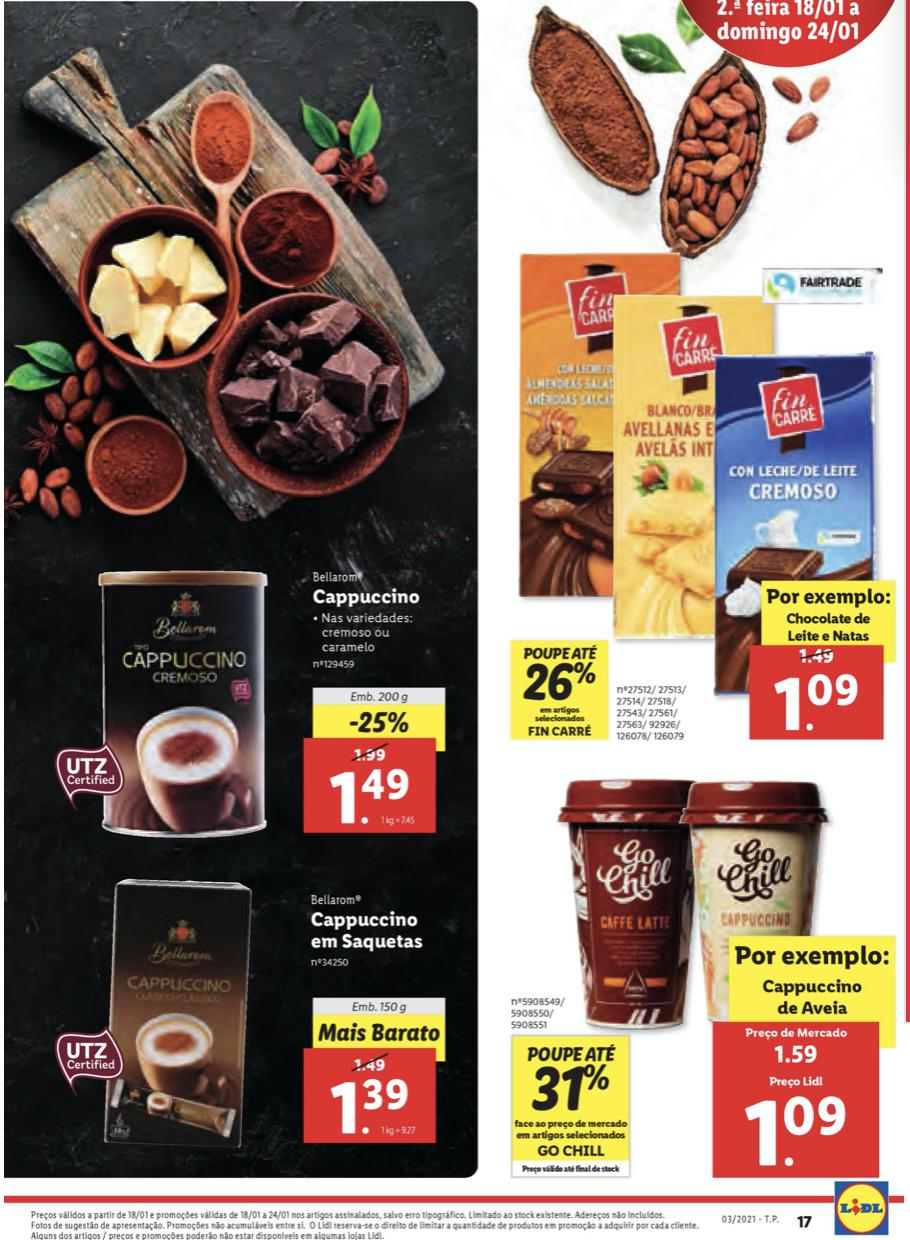name: (306, 907, 429, 958), (304, 585, 430, 613)
price: (741, 1091, 852, 1170), (775, 671, 866, 735), (332, 767, 419, 830), (327, 1081, 413, 1136)
product: (512, 233, 904, 764), (492, 767, 895, 1191), (36, 851, 466, 1159), (44, 553, 444, 847)
promotion: (526, 1062, 616, 1121), (521, 661, 599, 707), (341, 705, 415, 741)
